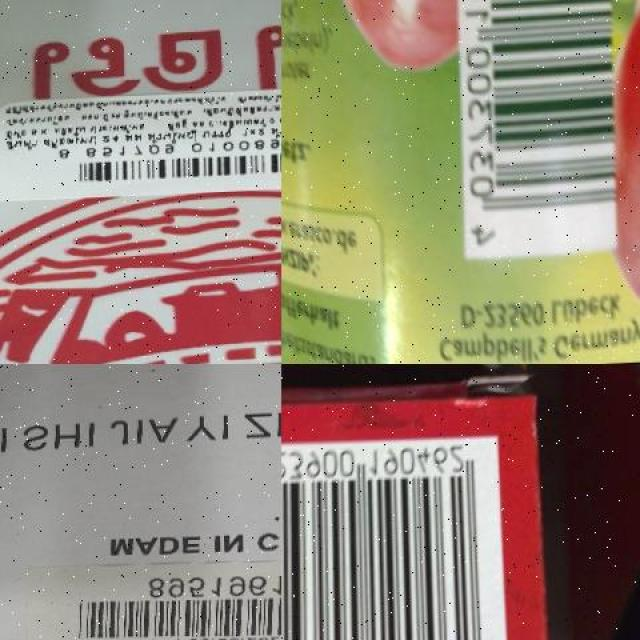Barcode: (281, 436, 503, 640), (452, 0, 615, 264), (61, 568, 282, 640), (52, 140, 281, 189)
